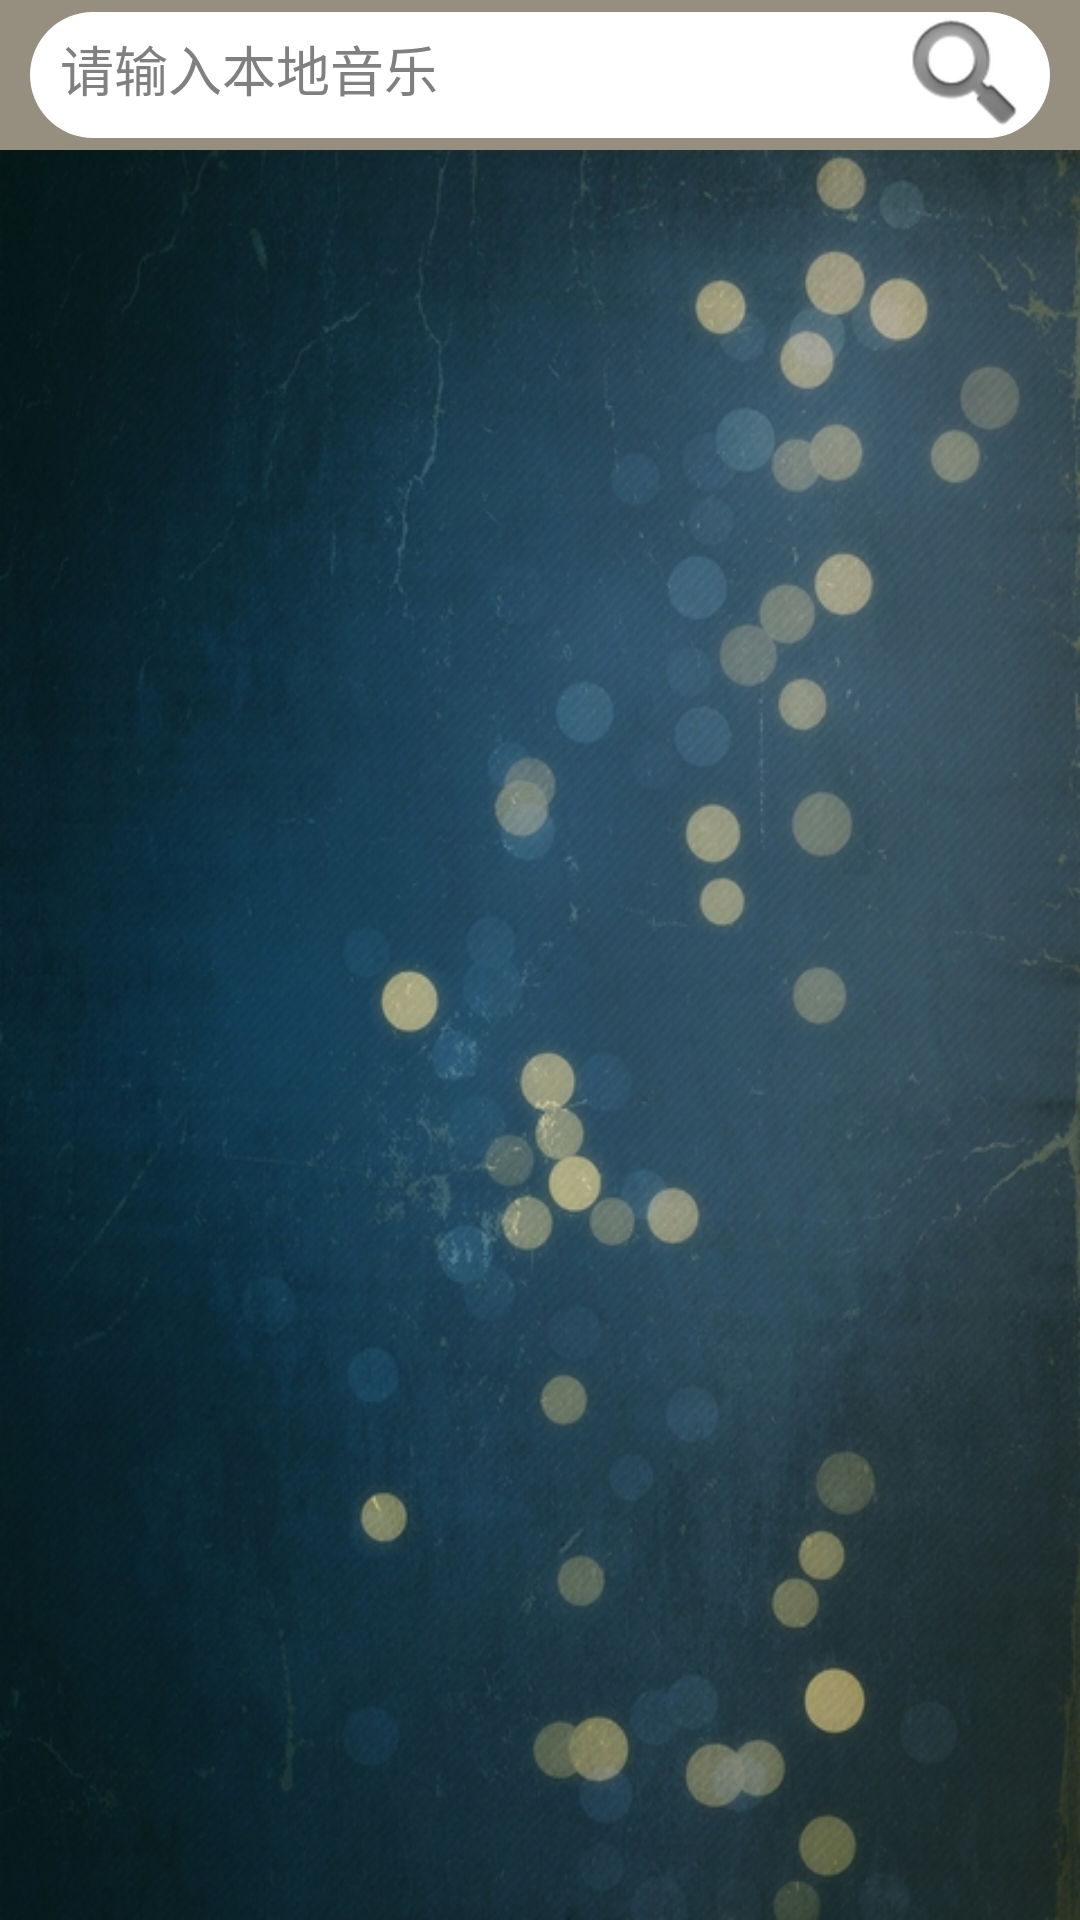

Where icons sit on this 1080px x 1920px app screen, as (left=x1, top=y1, right=x2, bottom=y2):
search category: (left=880, top=12, right=1050, bottom=138)
